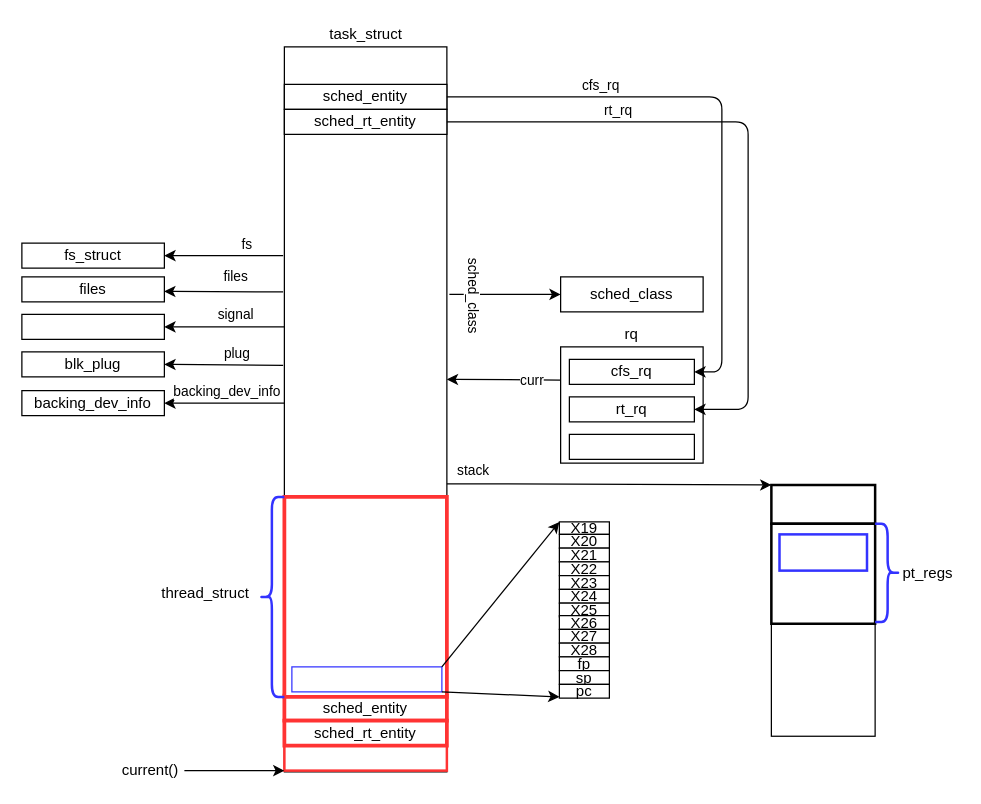
Some shapes in this 981 by 804 pixel diagram are drawn without their labels. The centre of each missing label's shape, as x and y in pixels:
cpu_context: pixel 366 679
dl_rq: pixel 631 446
signal_struct: pixel 92 326
thread_info: pixel 365 757
THREAD_SIZE: pixel 823 503
user_pt_regs: pixel 823 551
